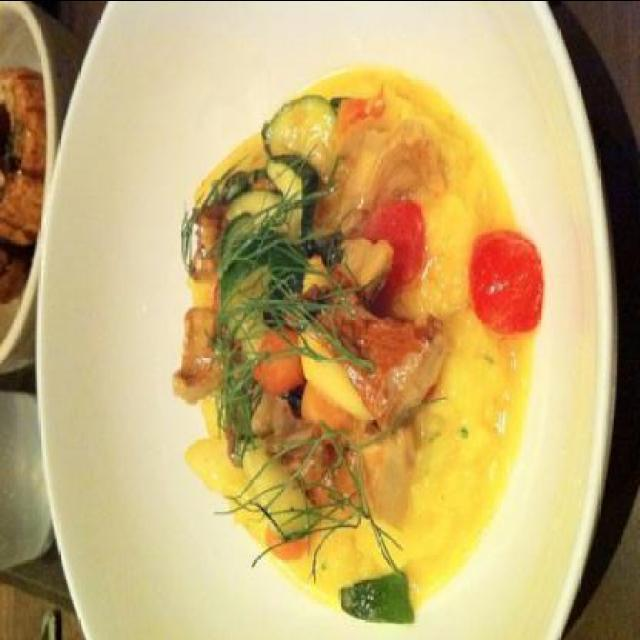Risotto: (208, 77, 528, 557)
